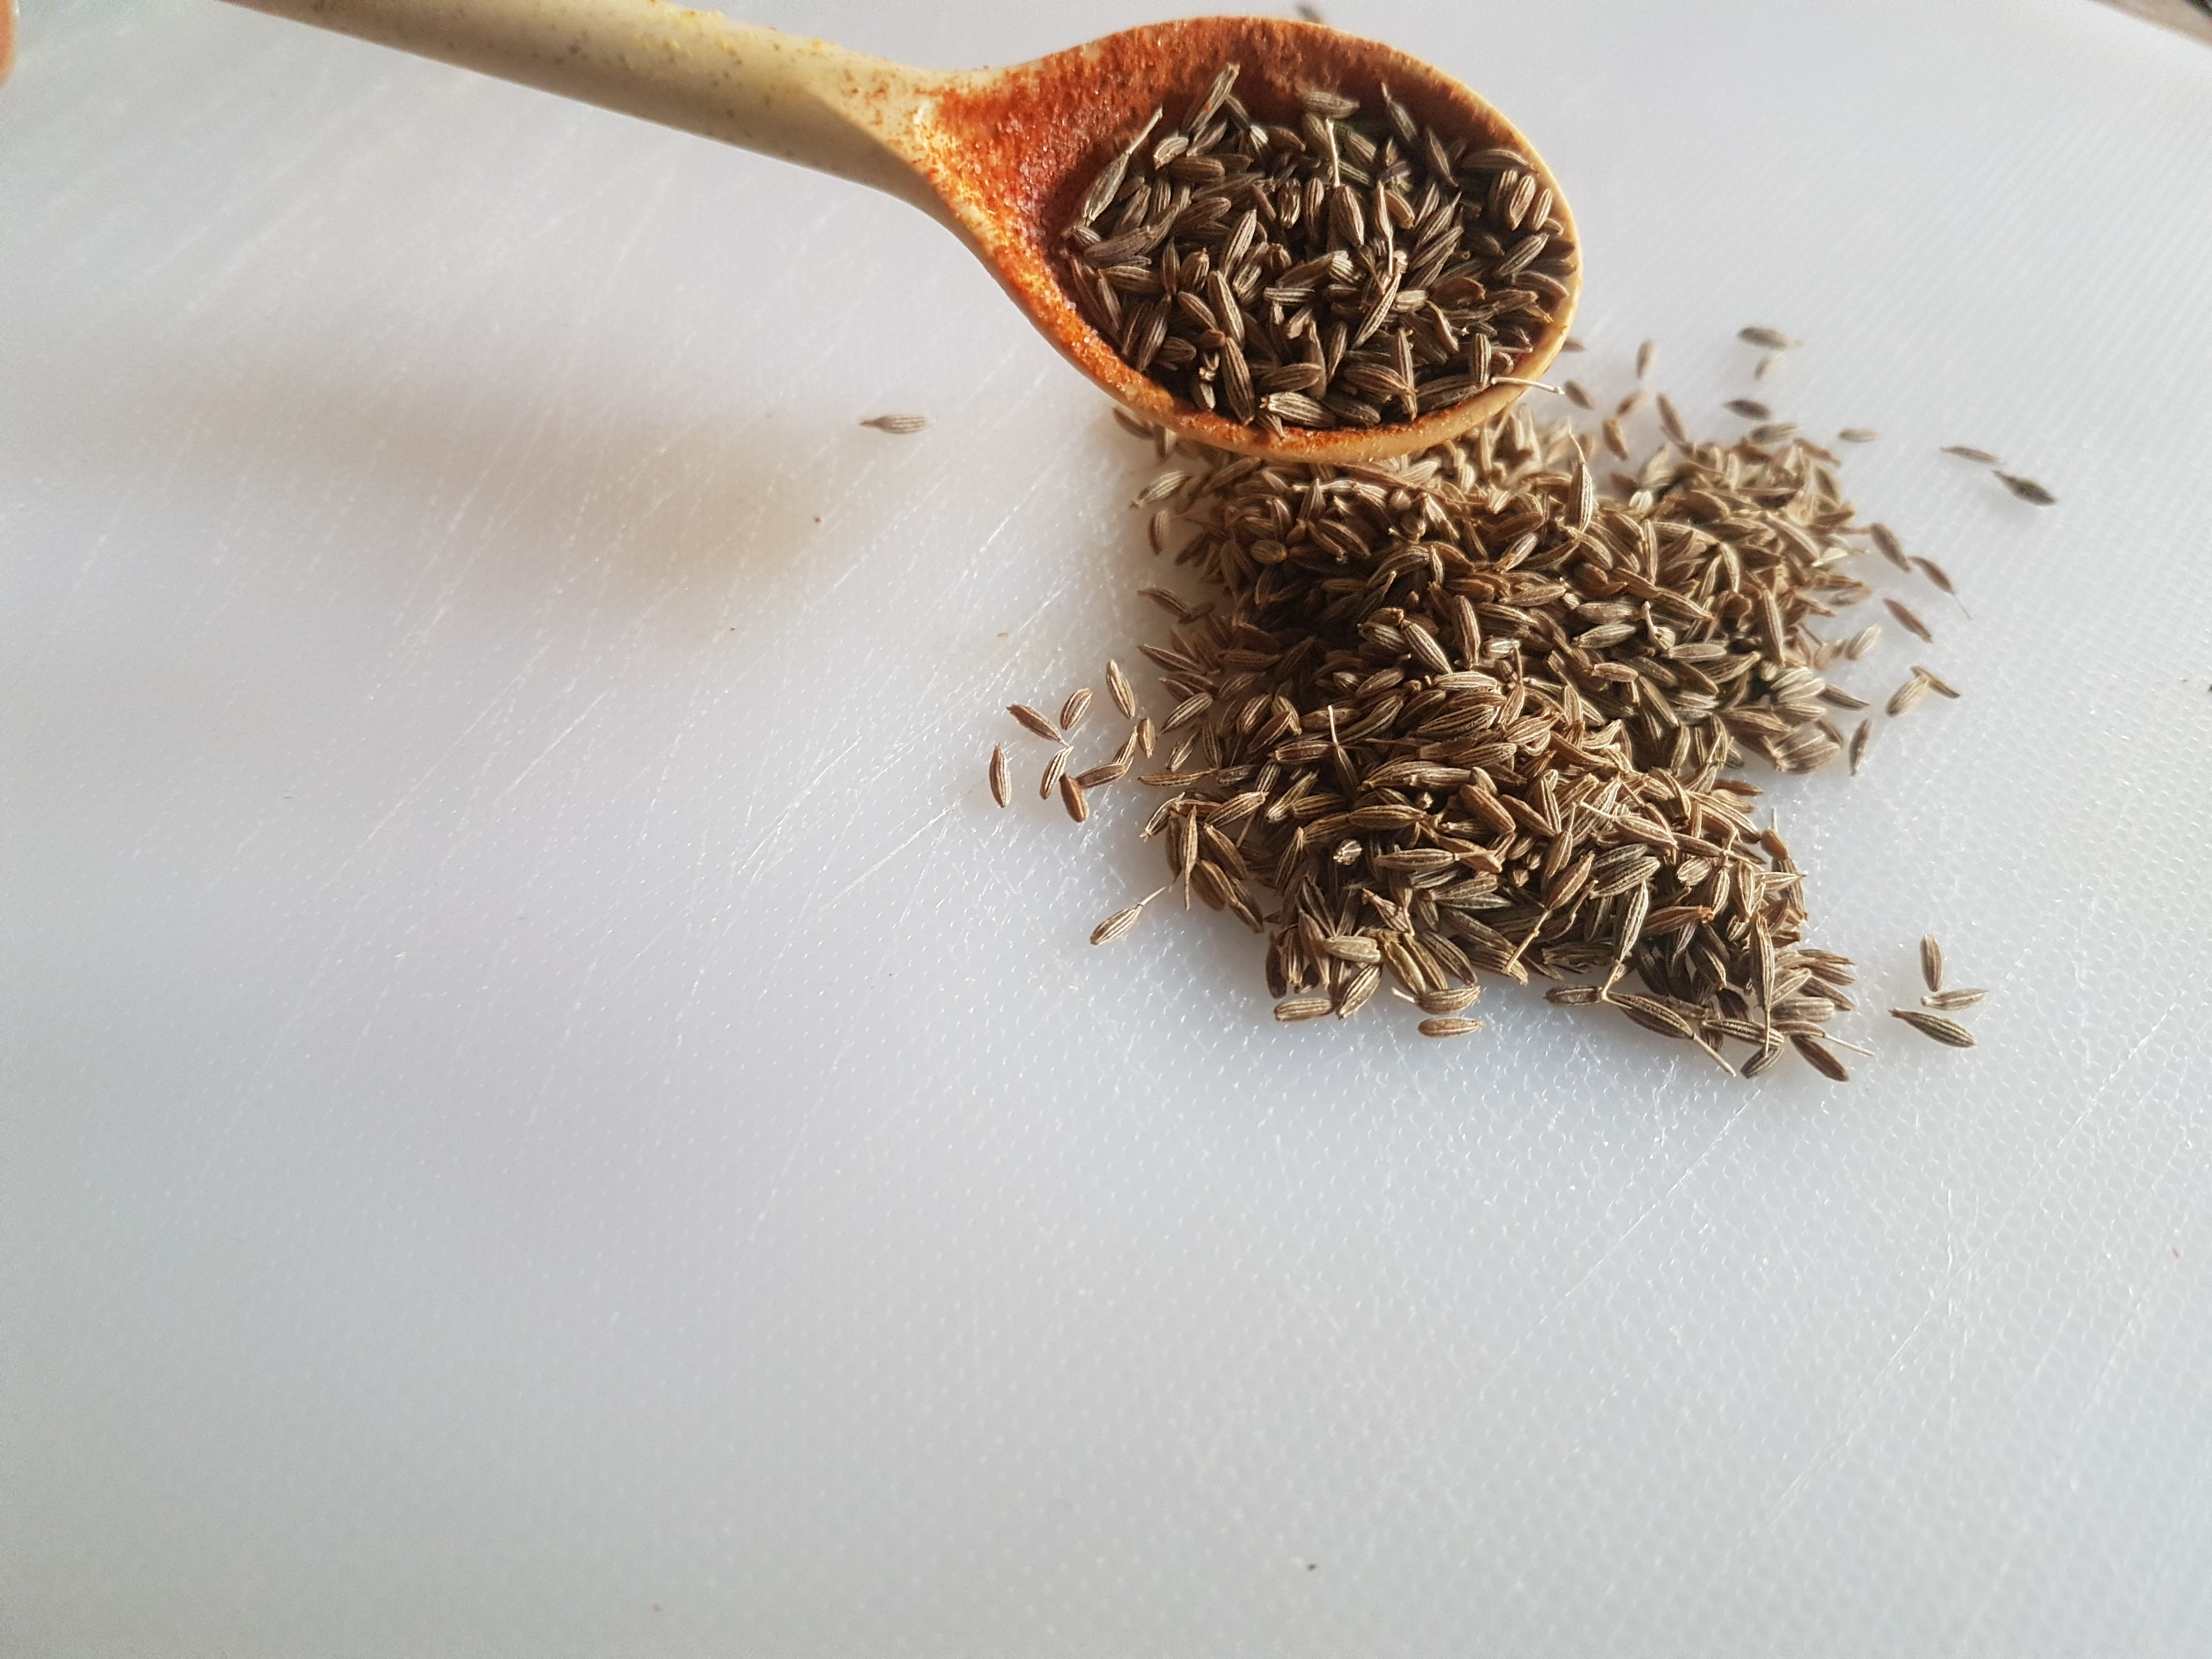Cumin (Zeera): (1047, 434, 2128, 1166), (998, 54, 1562, 396)
